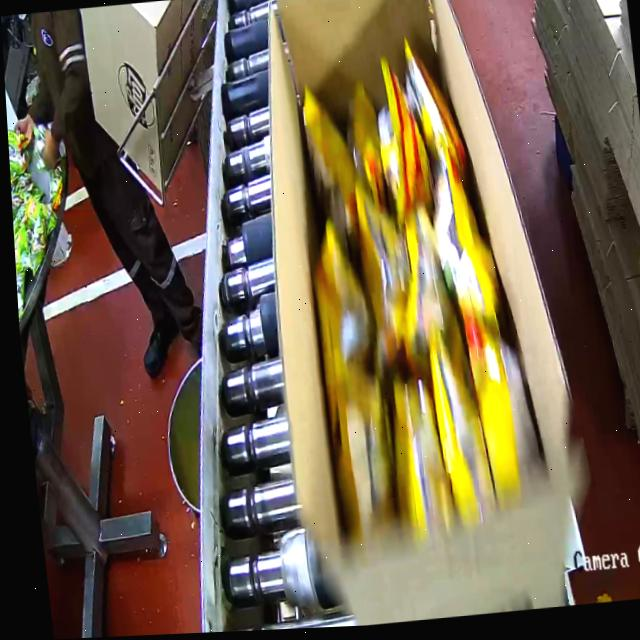SALTED: (271, 47, 539, 515)
